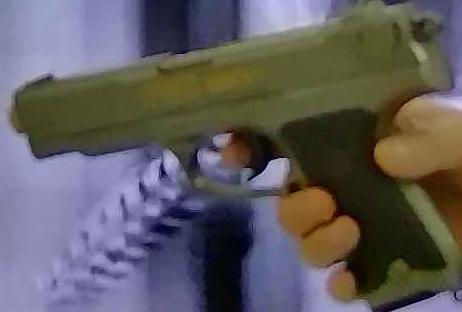gun: (1, 1, 462, 312)
